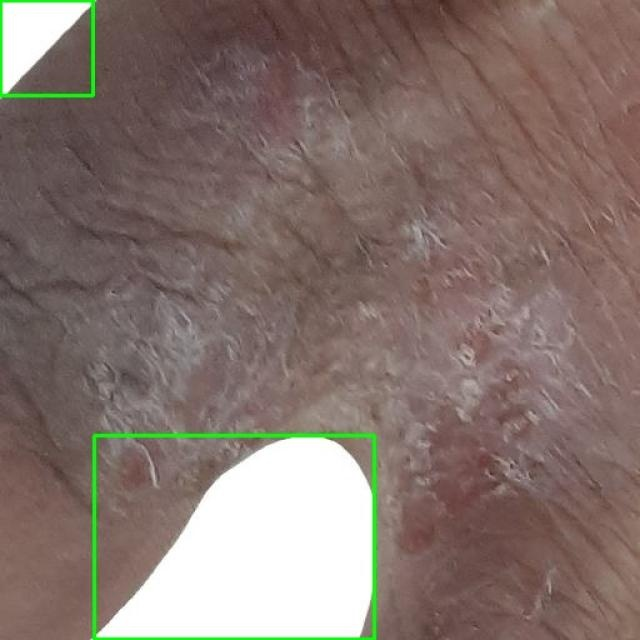Eczema: (94, 435, 374, 639), (0, 0, 92, 95)
